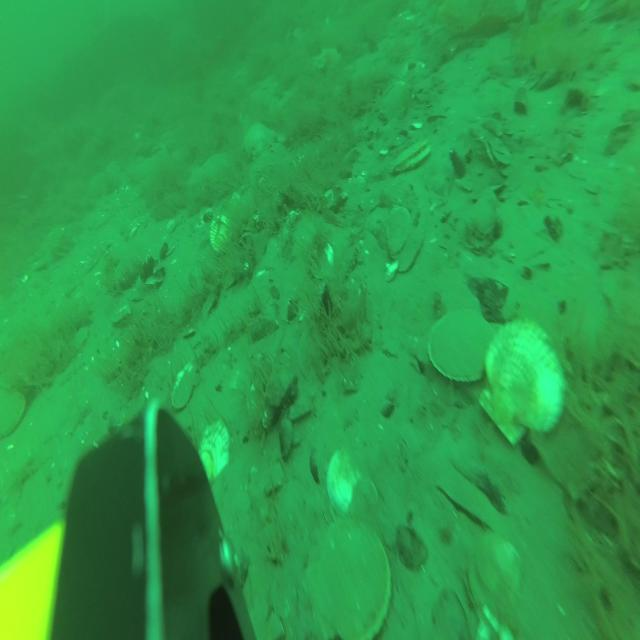scallop: (302, 513, 391, 636), (479, 321, 565, 443), (426, 313, 498, 387), (474, 531, 524, 612), (326, 446, 378, 515), (198, 425, 229, 483), (349, 476, 384, 525), (170, 358, 200, 408), (388, 138, 432, 172), (2, 385, 24, 440), (397, 227, 423, 273), (212, 214, 234, 258), (389, 203, 408, 252)
starfish: (242, 118, 278, 156), (316, 47, 344, 77)
